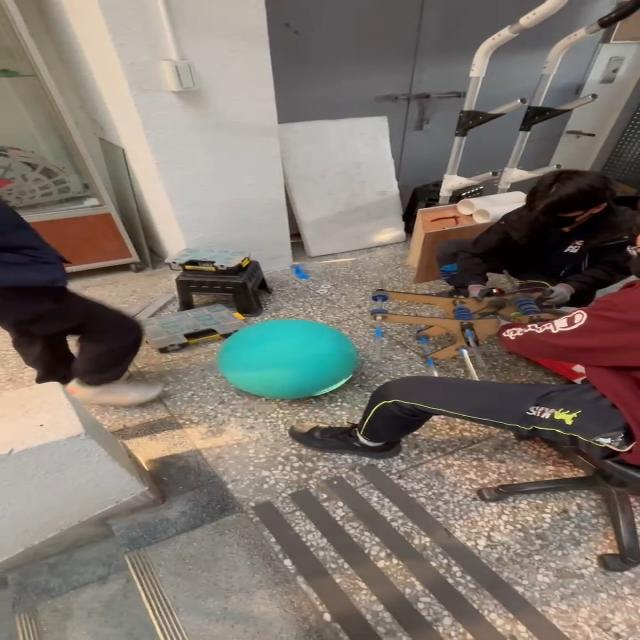ALGAE: (214, 318, 359, 400)
